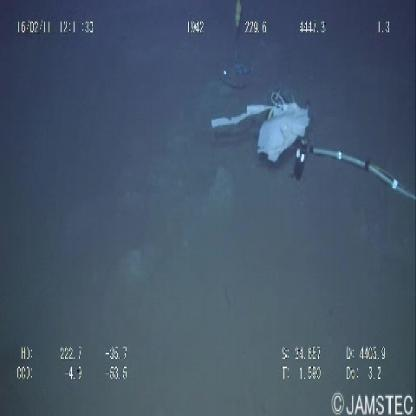Rác: (208, 94, 314, 166)
